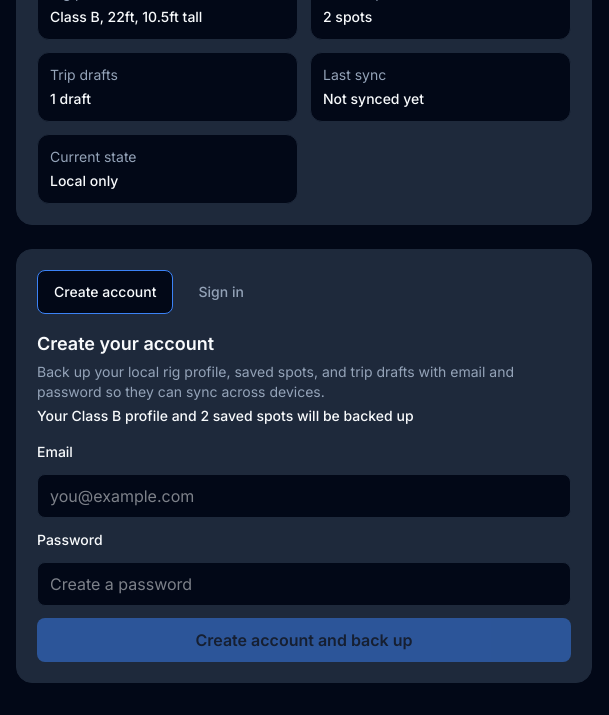
Scenario: AccountScreen › shows failure copy when migration fails but account is created
(page scrolled)
Type "user@example.com" into the field labelled "Email". click: (304, 496)
box: [37, 474, 571, 518]
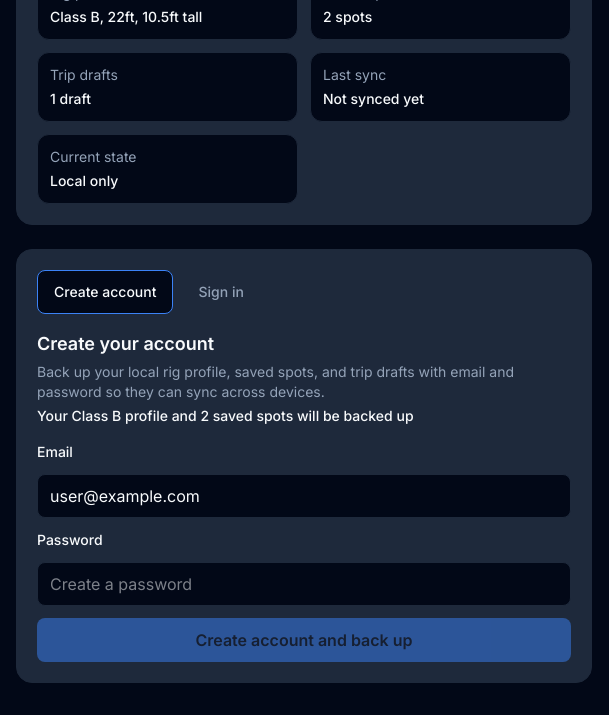
Type "password123" into the password field labelled "Password". click: (304, 584)
box: [37, 562, 571, 606]
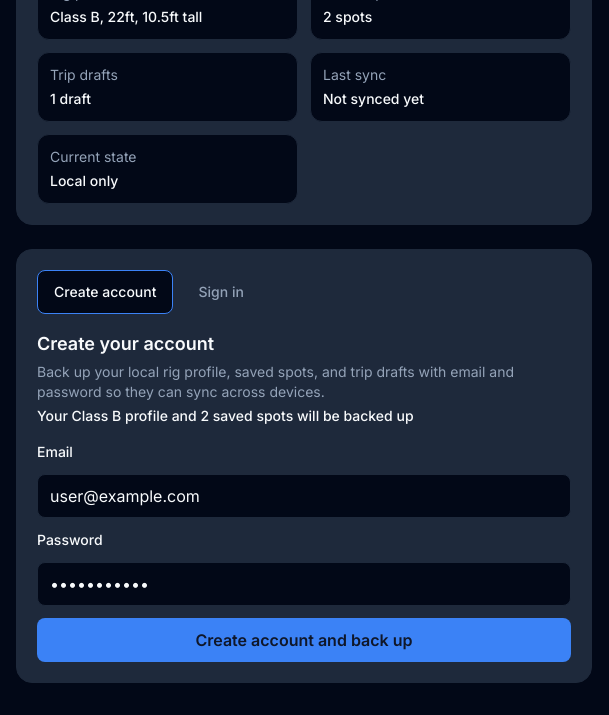
Submit the form "Email Password Create account and back up", box [37, 442, 571, 662]
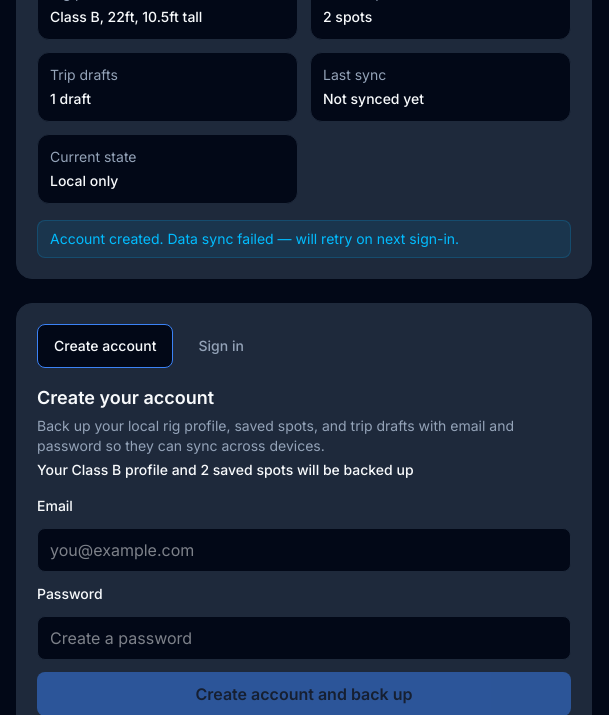
Expected: the message reads "Account created. Data sync failed — will retry on next sign-in.", [50, 230, 459, 247]
